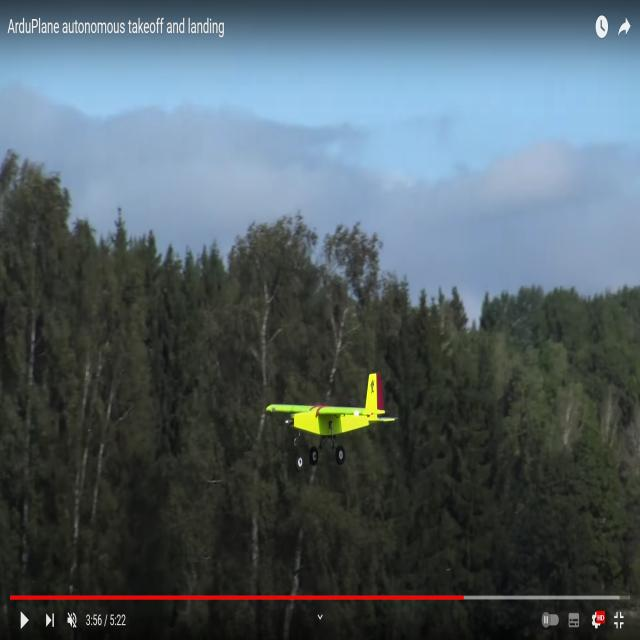iha: (299, 404, 349, 426)
